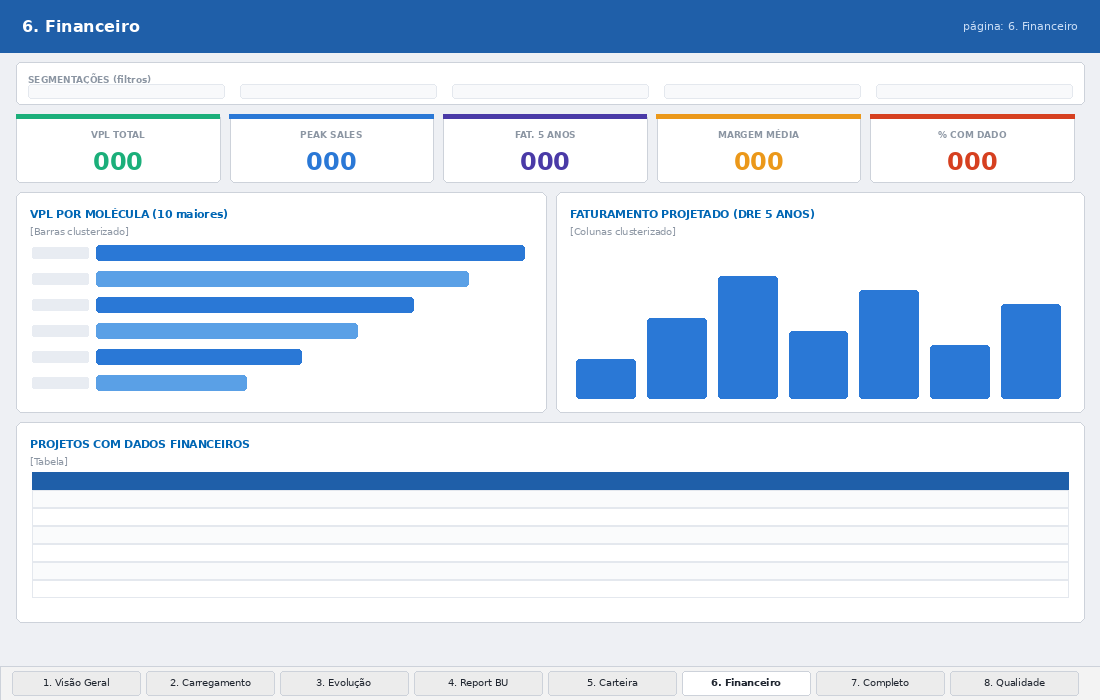

Layout of this report page (visuals, bound fields, positions):
{"tool":"powerbi","page":{"name":"6. Financeiro","canvas":[1280,720],"ordinal":5},"visuals":[{"type":"shape","box":[0,0,1280,48],"z":-2},{"type":"textbox","box":[20,6,780,34],"z":-1},{"type":"textbox","box":[820,14,444,24],"z":-1},{"type":"slicer","fields":{"Values":["Unidade de Negócio.Unidade de Negócio"]},"box":[16,56,240,40],"z":0},{"type":"slicer","fields":{"Values":["Equipe.Nome"]},"box":[268,56,240,40],"z":0},{"type":"slicer","fields":{"Values":["Mapeamento.Situação"]},"box":[520,56,240,40],"z":0},{"type":"slicer","fields":{"Values":["Status NN.Status"]},"box":[772,56,240,40],"z":0},{"type":"slicer","fields":{"Values":["Calendário.Ano"]},"box":[1024,56,240,40],"z":0},{"type":"card","title":"VPL TOTAL","fields":{"Values":["_Medidas.VPL Total"]},"box":[16,104,240,72],"z":0},{"type":"card","title":"PEAK SALES","fields":{"Values":["_Medidas.Peak Sales"]},"box":[268,104,240,72],"z":0},{"type":"card","title":"FAT. LÍQ. 5 ANOS","fields":{"Values":["_Medidas.Faturamento 5 Anos"]},"box":[520,104,240,72],"z":0},{"type":"card","title":"MARGEM BRUTA MÉDIA","fields":{"Values":["_Medidas.Margem Bruta Média"]},"box":[772,104,240,72],"z":0},{"type":"card","title":"% COM DADO FINANCEIRO","fields":{"Values":["_Medidas.% Cobertura Financeira"]},"box":[1024,104,240,72],"z":0},{"type":"clusteredBarChart","title":"VPL POR MOLÉCULA","fields":{"Category":["Mapeamento.Molécula"],"Y":["_Medidas.VPL Total"]},"box":[16,184,618,245],"z":0},{"type":"clusteredColumnChart","title":"VPL POR UNIDADE DE NEGÓCIO","fields":{"Category":["Unidade de Negócio.Unidade de Negócio"],"Y":["_Medidas.VPL Total"]},"box":[646,184,618,245],"z":0},{"type":"tableEx","title":"PROJETOS COM DADOS FINANCEIROS","fields":{"Values":["Mapeamento.Molécula","Mapeamento.Fornecedor / Parceiro","Mapeamento.Moeda","_Medidas.VPL Total","_Medidas.Peak Sales","_Medidas.Margem Bruta Média","_Medidas.Faturamento 5 Anos"]},"box":[16,437,618,260],"z":0},{"type":"clusteredColumnChart","title":"FATURAMENTO LÍQUIDO PROJETADO (DRE, 5 ANOS)","fields":{"Category":["Faturamento Projetado.Ano Projetado"],"Y":["_Medidas.Faturamento Projetado"]},"box":[646,437,618,260],"z":0}]}

Visuals, with their boxes on the page's 1280x720 design canvas (x1, y1, x2, y2). These are canvas units, not pixel positions in the 1100x700 screenshot, which may show the page scaled, cropped or inside an application window:
shape: 0, 0, 1280, 48
textbox: 20, 6, 800, 40
textbox: 820, 14, 1264, 38
slicer - Unidade de Negócio.Unidade de Negócio: 16, 56, 256, 96
slicer - Equipe.Nome: 268, 56, 508, 96
slicer - Mapeamento.Situação: 520, 56, 760, 96
slicer - Status NN.Status: 772, 56, 1012, 96
slicer - Calendário.Ano: 1024, 56, 1264, 96
"VPL TOTAL" card: 16, 104, 256, 176
"PEAK SALES" card: 268, 104, 508, 176
"FAT. LÍQ. 5 ANOS" card: 520, 104, 760, 176
"MARGEM BRUTA MÉDIA" card: 772, 104, 1012, 176
"% COM DADO FINANCEIRO" card: 1024, 104, 1264, 176
"VPL POR MOLÉCULA" clusteredBarChart: 16, 184, 634, 429
"VPL POR UNIDADE DE NEGÓCIO" clusteredColumnChart: 646, 184, 1264, 429
"PROJETOS COM DADOS FINANCEIROS" tableEx: 16, 437, 634, 697
"FATURAMENTO LÍQUIDO PROJETADO (DRE, 5 ANOS)" clusteredColumnChart: 646, 437, 1264, 697
